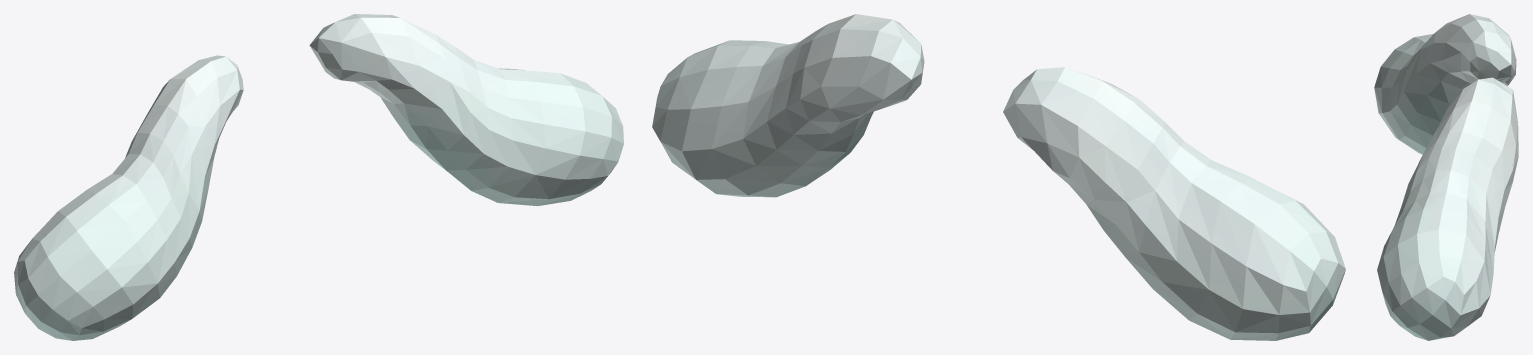
File: CharSkyKid_Hair_IvoryHat.glb
The picture shows the model from 3 angles, left to right: view 1: azimuth 30°, elevation 25°; view 2: azimuth 150°, elevation 25°; view 3: azimuth 270°, elevation 25°; orthographic projection. The views are drawn at different scales.
Visible parts, largest first — view 1: CharSkyKid_Hair_IvoryHat; view 2: CharSkyKid_Hair_IvoryHat; view 3: CharSkyKid_Hair_IvoryHat.
Boxes of the visible parts, x1,y1,x2,y2 form: CharSkyKid_Hair_IvoryHat: [14, 14, 623, 340]; CharSkyKid_Hair_IvoryHat: [652, 14, 1345, 340]; CharSkyKid_Hair_IvoryHat: [1374, 14, 1518, 340].
Size of the model in its own units: 7.46 by 2.7 by 1.78.
1 material, 1 textured.
